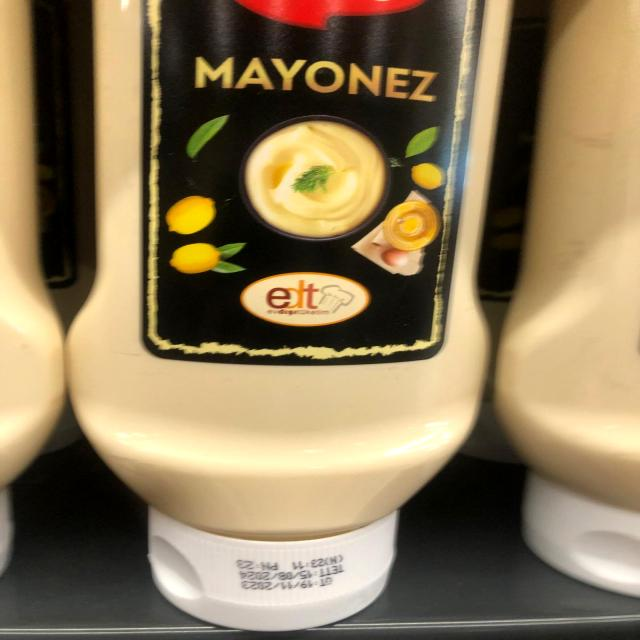mayonnaise: (72, 0, 516, 640)
